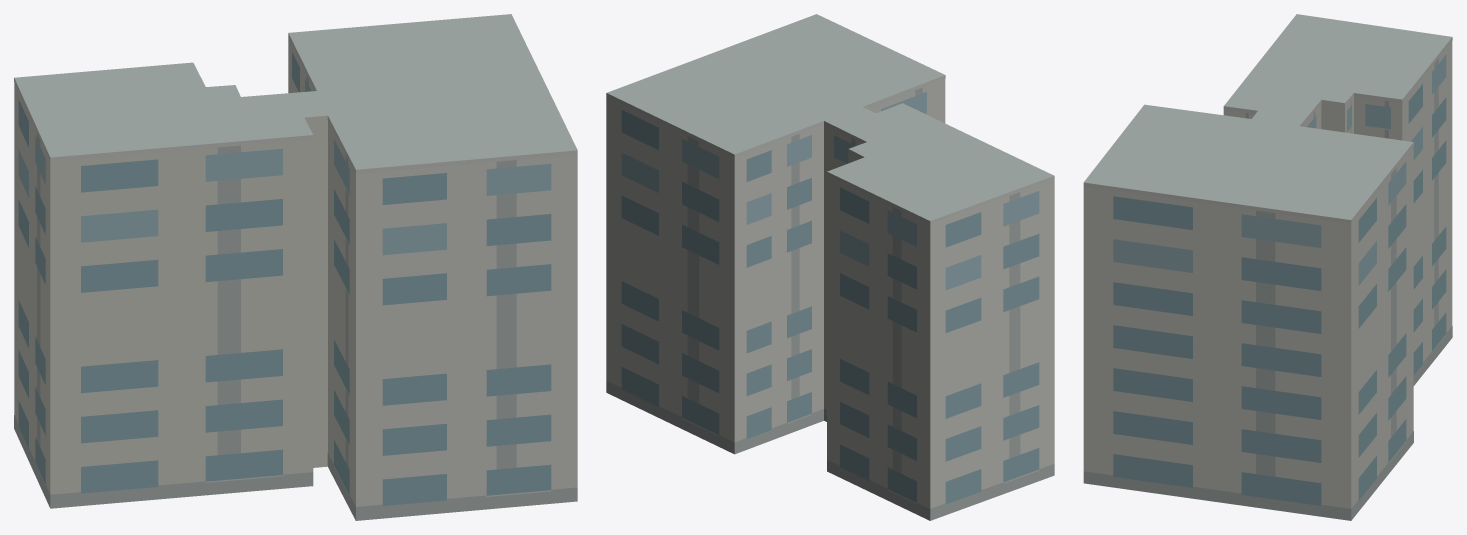
File: survey-upis-32522608.glb
3 renders of one model, left to right at view 1: azimuth 30°, elevation 25°; view 2: azimuth 150°, elevation 25°; view 3: azimuth 270°, elevation 25°, orthographic. The views are drawn at different scales.
Parts seen in each view (by area): view 1: survey-upis-32522608.tmp; view 2: survey-upis-32522608.tmp; view 3: survey-upis-32522608.tmp.
Boxes of the visible parts, x1,y1,x2,y2 form: survey-upis-32522608.tmp: [14, 14, 577, 520]; survey-upis-32522608.tmp: [606, 14, 1054, 520]; survey-upis-32522608.tmp: [1083, 14, 1452, 520].
Bounding box in the file's own units: 28.84 × 19.62 × 21.82.
